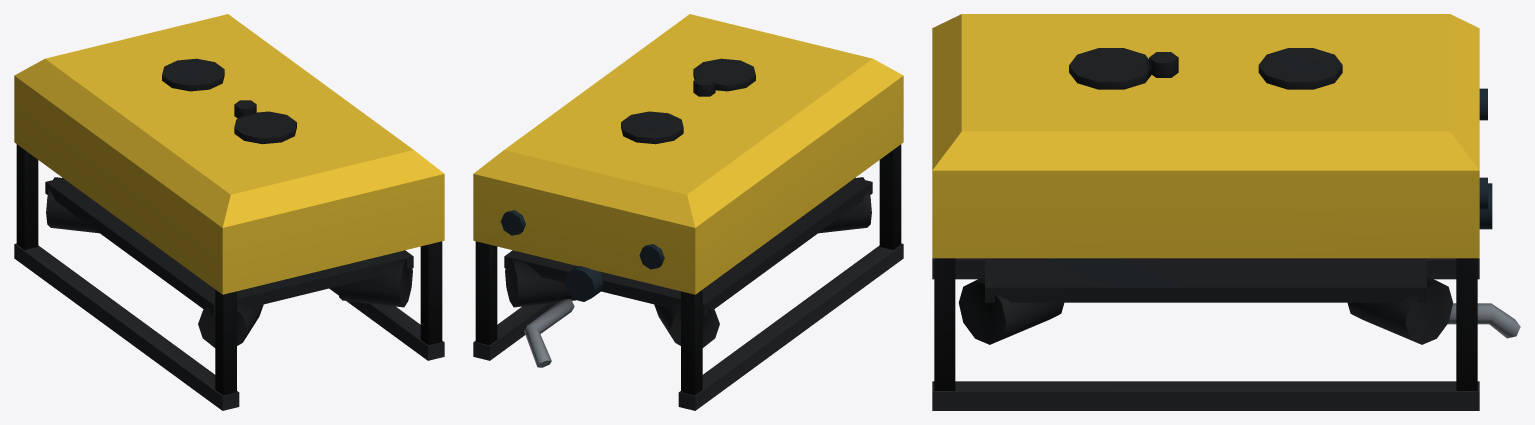
The model's file is rov_LOD0.glb.
The picture shows the model from 3 angles, left to right: view 1: azimuth 30°, elevation 25°; view 2: azimuth 150°, elevation 25°; view 3: azimuth 270°, elevation 25°; orthographic projection. The views are drawn at different scales.
Parts seen in each view (by area): view 1: Hull, Rubber; view 2: Hull, Rubber, Windows, Machinery; view 3: Hull, Rubber, Machinery, Windows.
Part boxes in pixels (x1,y1,x2,y2): Hull: (14,14,444,294); Rubber: (14,58,444,410); Hull: (473,14,903,294); Rubber: (473,58,903,410); Windows: (500,210,664,301); Machinery: (524,299,574,367); Hull: (932,14,1479,258); Rubber: (932,48,1479,410); Machinery: (1448,303,1520,338); Windows: (1479,88,1492,229).
Size of the model in its own units: 1.6 by 1.48 by 2.8.
